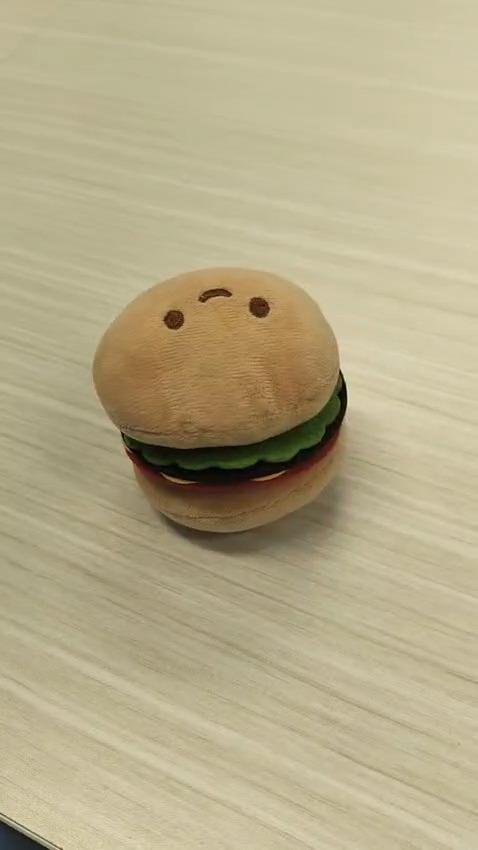hamburger: (91, 265, 348, 535)
